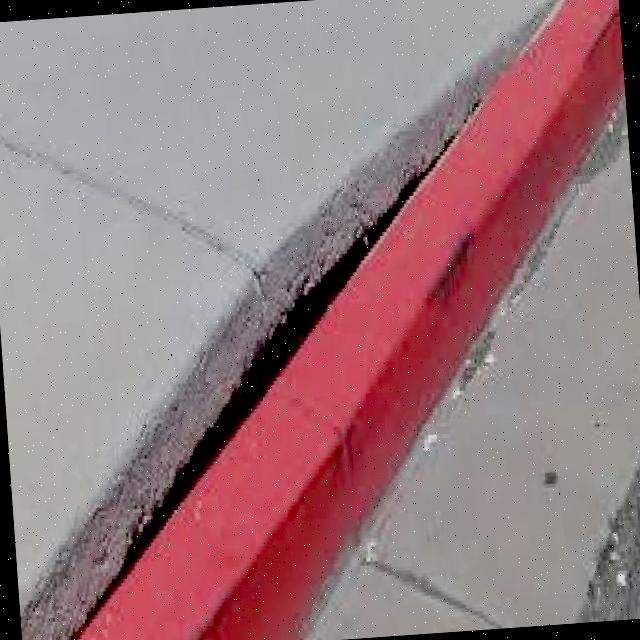curb: (155, 138, 430, 567), (55, 503, 367, 640), (411, 84, 560, 357), (514, 1, 630, 202)
